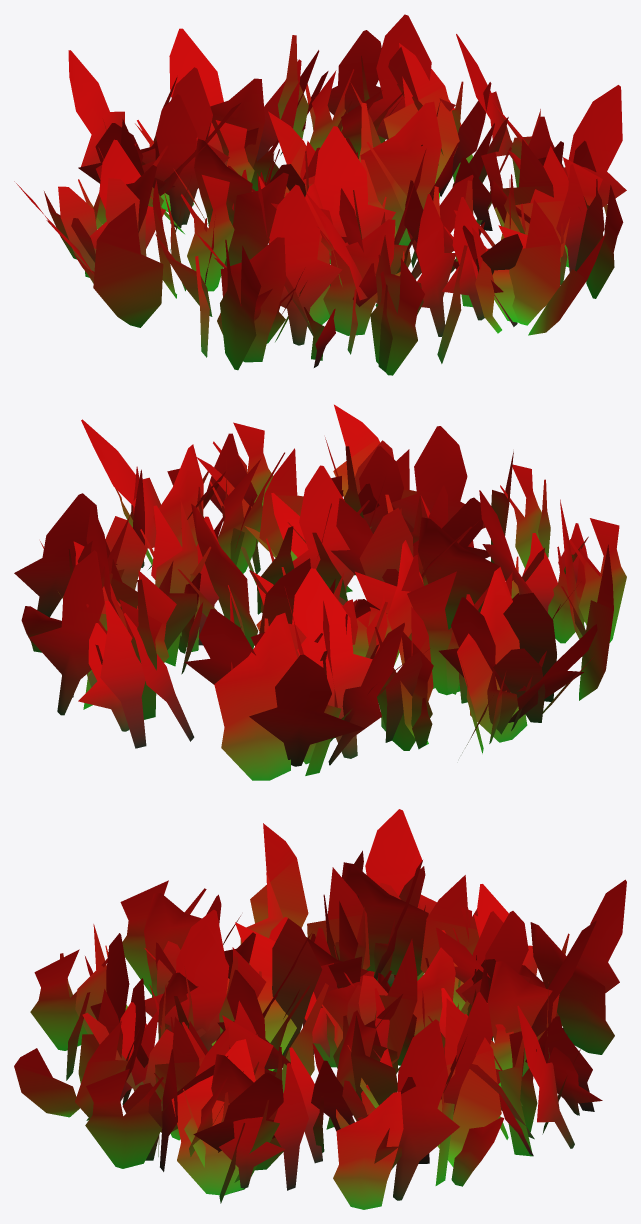
The model's file is rbptq_Var1_LOD0.fbx.
3 renders of one model, top to bottom at view 1: azimuth 30°, elevation 25°; view 2: azimuth 150°, elevation 25°; view 3: azimuth 270°, elevation 25°, orthographic. The views are drawn at different scales.
Visible parts, largest first — view 1: _1288_Var1_LOD0; view 2: _1288_Var1_LOD0; view 3: _1288_Var1_LOD0.
Part boxes in pixels (<box>): _1288_Var1_LOD0: <box>14,14,626,375</box>; _1288_Var1_LOD0: <box>14,404,626,780</box>; _1288_Var1_LOD0: <box>14,809,626,1209</box>.
Bounding box in the file's own units: 112 × 32.98 × 105.
